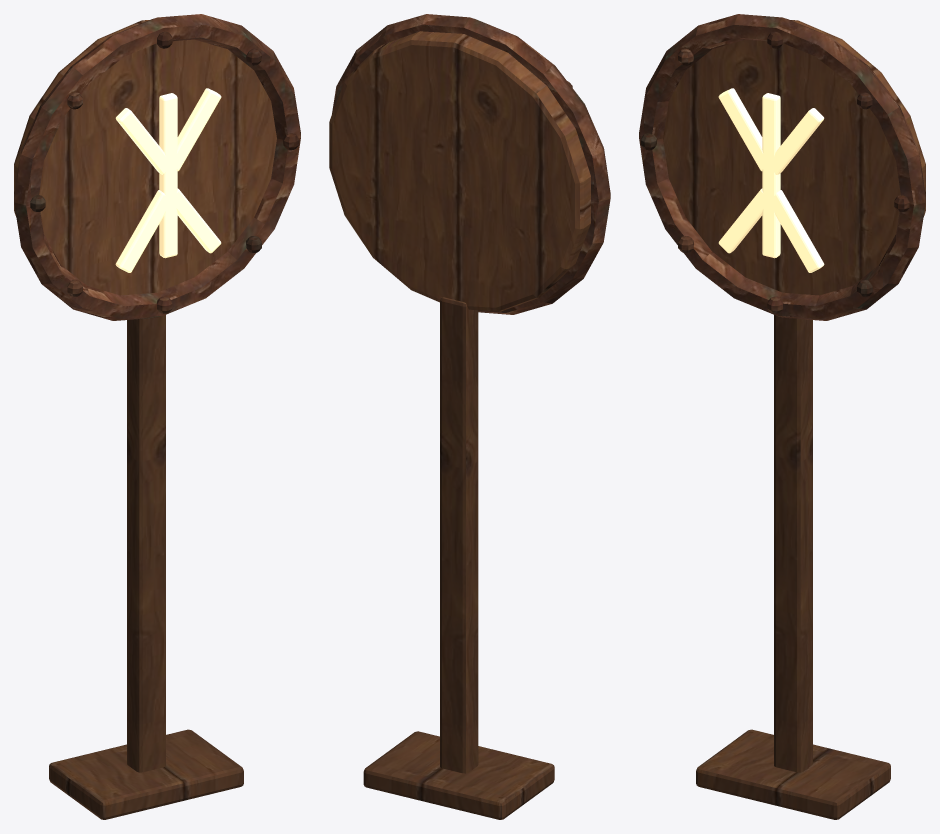
File: rune_shield.glb
3 views of the same model, side by side, from view 1: azimuth 30°, elevation 25°; view 2: azimuth 150°, elevation 25°; view 3: azimuth 330°, elevation 25° (orthographic). The views are drawn at different scales.
Parts seen in each view (by area): view 1: model; view 2: model; view 3: model.
Part boxes in pixels (bbox=[...]): model: bbox=[14, 14, 300, 819]; model: bbox=[329, 14, 610, 819]; model: bbox=[639, 14, 925, 819].
Size of the model in its own units: 0.6 by 1.55 by 0.2.
5 materials, 4 textured.
